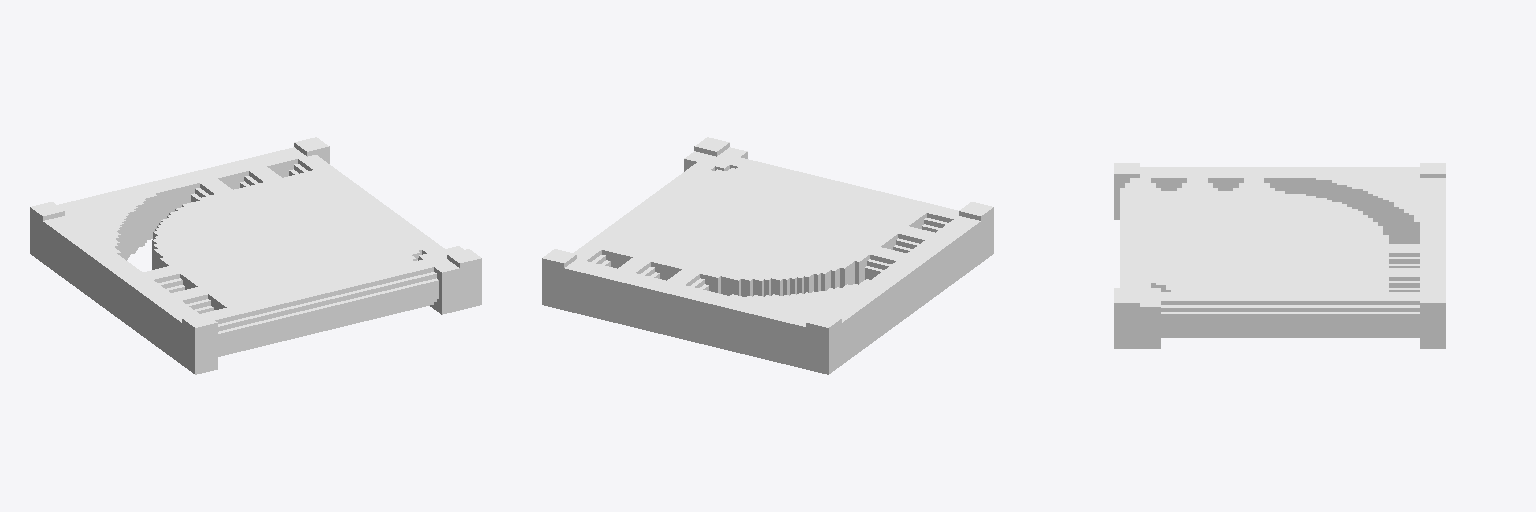
The model's file is ConveyorTurn2.obj.
3 views of the same model, side by side, from view 1: azimuth 30°, elevation 25°; view 2: azimuth 150°, elevation 25°; view 3: azimuth 270°, elevation 25° (orthographic).
Bounding box in the file's own units: 64 × 10 × 64.